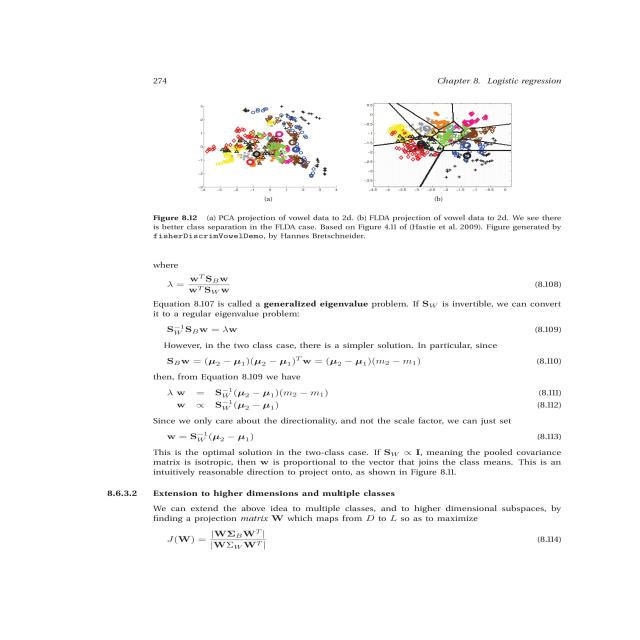diagram: (96, 96, 586, 255)
